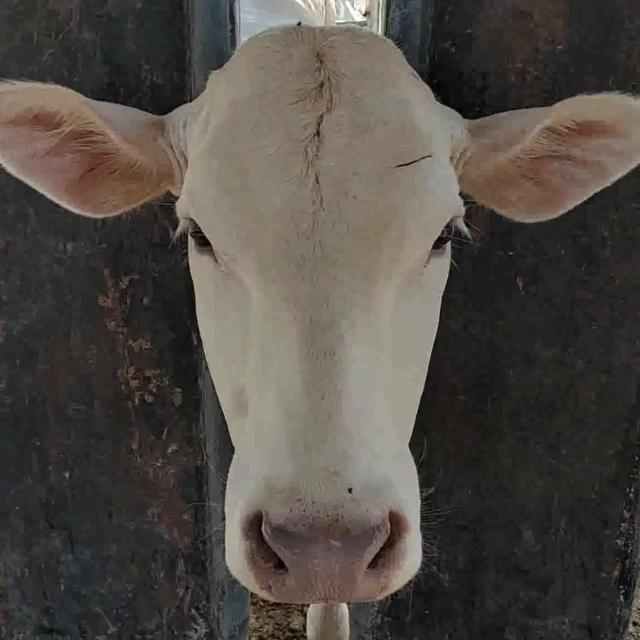cowFace: (172, 23, 462, 600)
